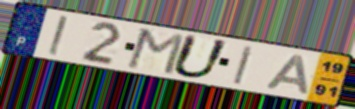2: (80, 21, 125, 67)
A: (263, 52, 310, 96)
I: (231, 44, 256, 87), (46, 14, 70, 58)
M: (124, 27, 188, 77)
U: (168, 33, 232, 80)
